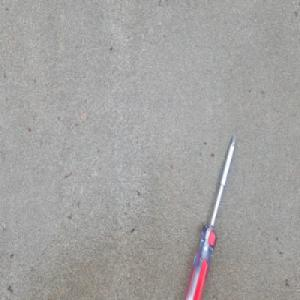Screwdriver: (182, 132, 238, 300)
